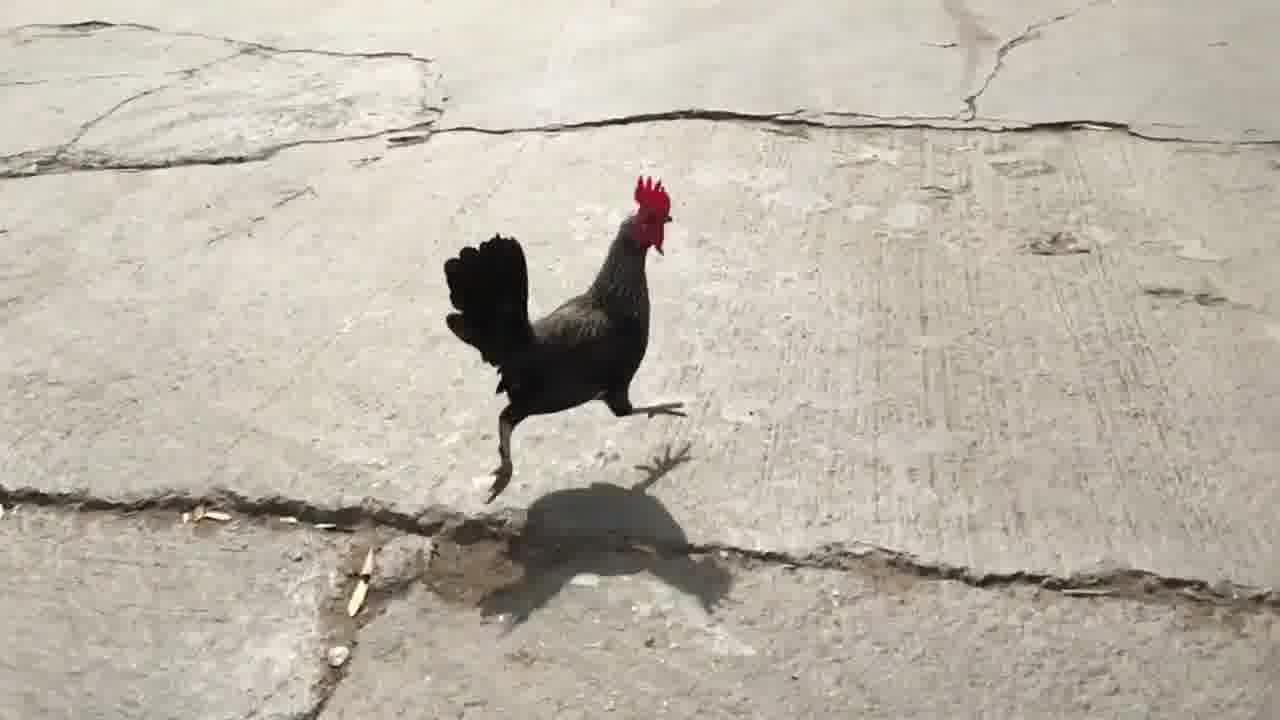Normal: (442, 162, 700, 508)
